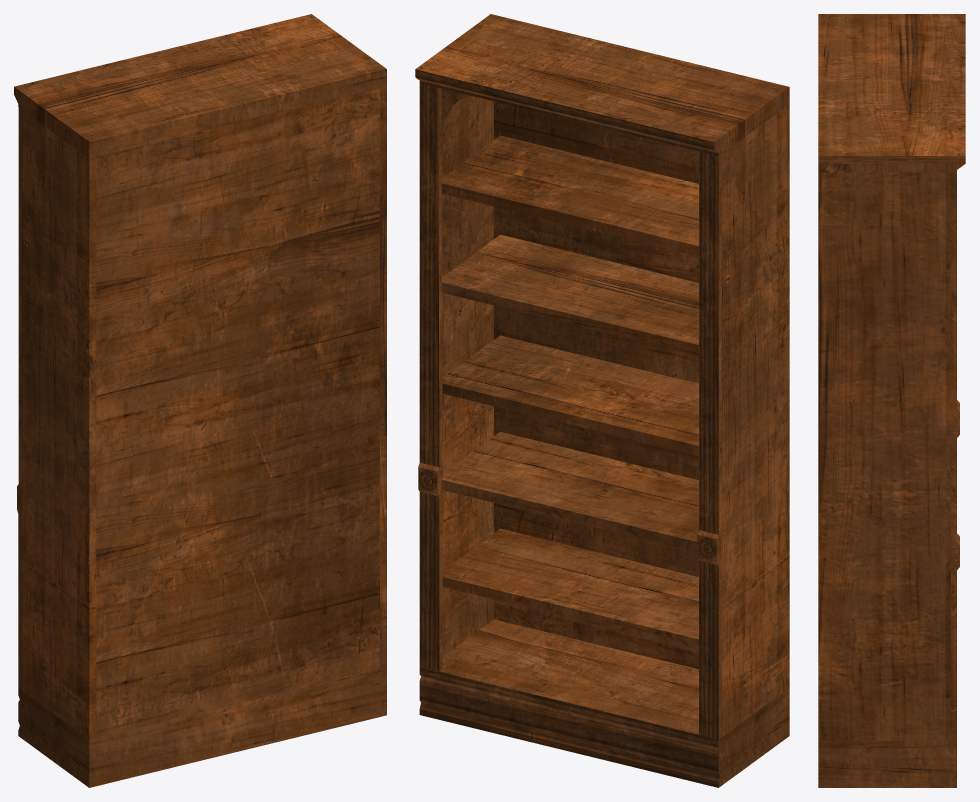
Rendered from Cubbert_B2.fbx.
The picture shows the model from 3 angles, left to right: view 1: azimuth 30°, elevation 25°; view 2: azimuth 150°, elevation 25°; view 3: azimuth 270°, elevation 25°; orthographic projection. The views are drawn at different scales.
Visible parts, largest first — view 1: Cubbert_B2; view 2: Cubbert_B2; view 3: Cubbert_B2.
Part boxes in pixels (x1=…): Cubbert_B2: x1=14, y1=14, x2=386, y2=787; Cubbert_B2: x1=415, y1=14, x2=789, y2=787; Cubbert_B2: x1=818, y1=14, x2=965, y2=787.
Size of the model in its own units: 1.26 by 2.62 by 0.5525.
